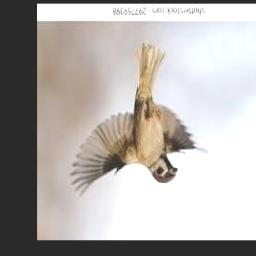Sparrow: (70, 43, 208, 198)
